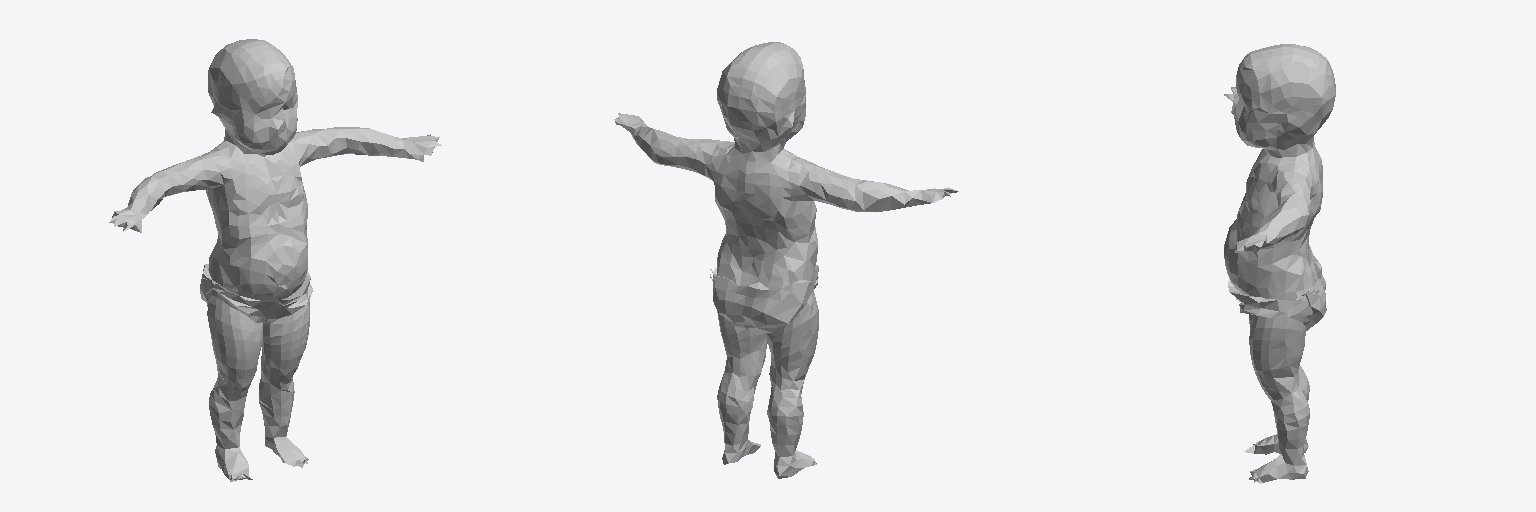
The model's file is baby.obj.
The picture shows the model from 3 angles: view 1: azimuth 30°, elevation 25°; view 2: azimuth 150°, elevation 25°; view 3: azimuth 270°, elevation 25°; orthographic projection.
Bounding box in the file's own units: 124 × 149 × 36.16.